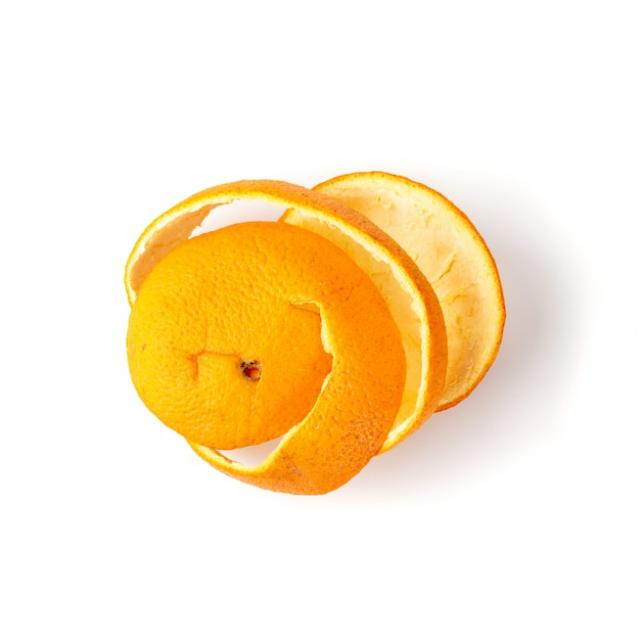organic: (124, 173, 506, 498)
